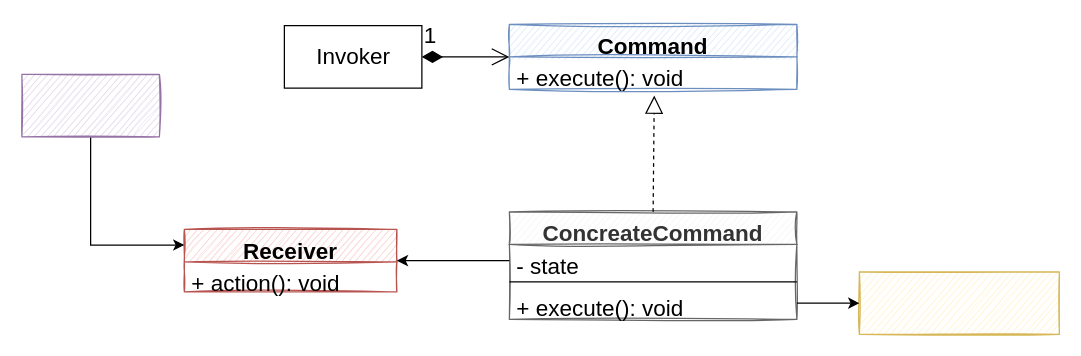
Image size: 1081x356. Some labels were removed from this diagram. Each missing label, with the centre of its shape:
Client: (x=90, y=105)
receiver.action(): (x=958, y=302)
